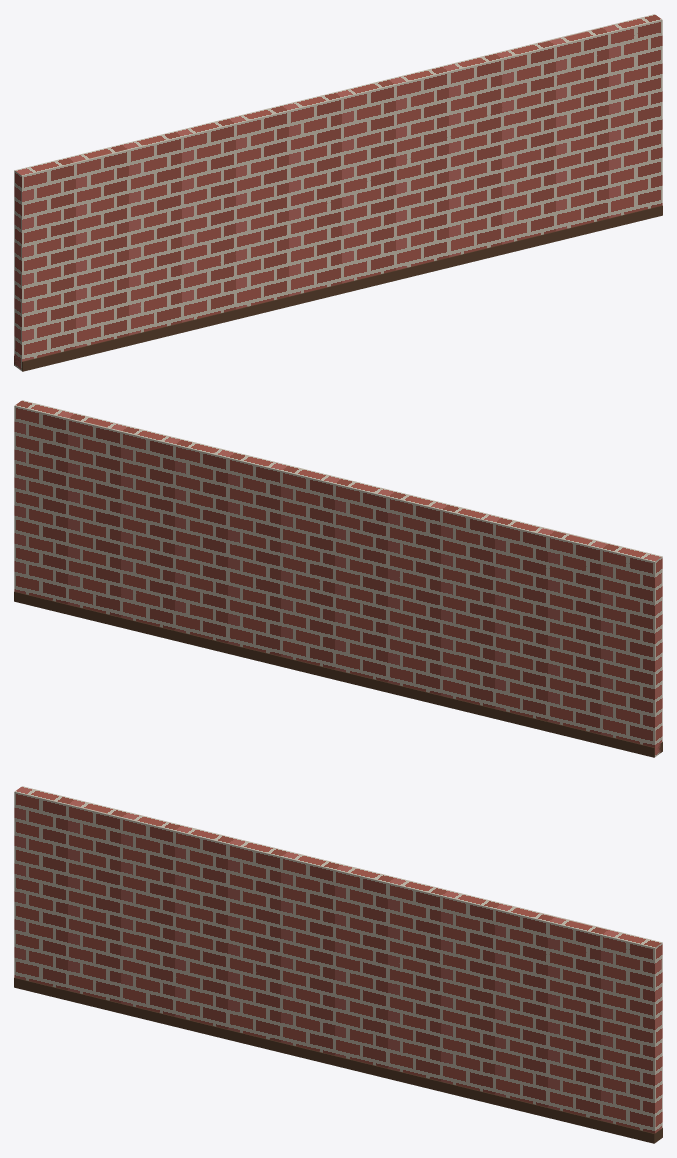
Rendered from Wall.fbx.
3 views of the same model, one above another, from view 1: azimuth 30°, elevation 25°; view 2: azimuth 150°, elevation 25°; view 3: azimuth 330°, elevation 25° (orthographic).
Visible parts, largest first — view 1: Wall_Mesh; view 2: Wall_Mesh; view 3: Wall_Mesh.
Boxes of the visible parts, <box> form: Wall_Mesh: <box>14,14,662,371</box>; Wall_Mesh: <box>14,400,662,757</box>; Wall_Mesh: <box>14,786,662,1143</box>.
Size of the model in its own units: 24 by 7 by 0.56.
Materials: 2 (2 with a texture image).
